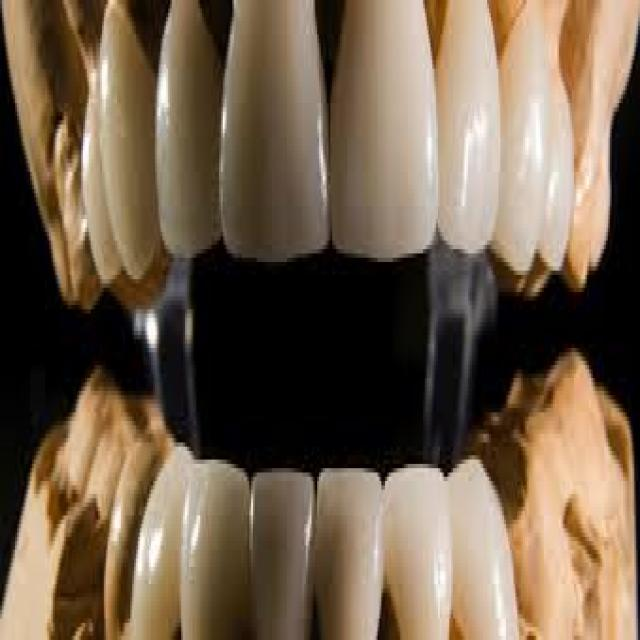tooth: (338, 5, 438, 266), (230, 13, 330, 258), (380, 468, 521, 640), (504, 39, 576, 284), (153, 26, 226, 266), (442, 8, 500, 245), (98, 43, 155, 271), (315, 485, 391, 640), (191, 464, 251, 640), (250, 477, 314, 640), (156, 455, 192, 640)
